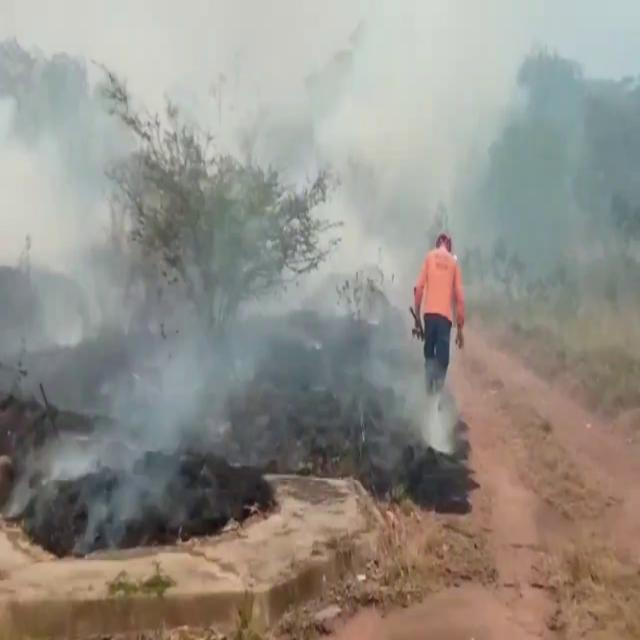Smoke: (1, 0, 625, 531)
